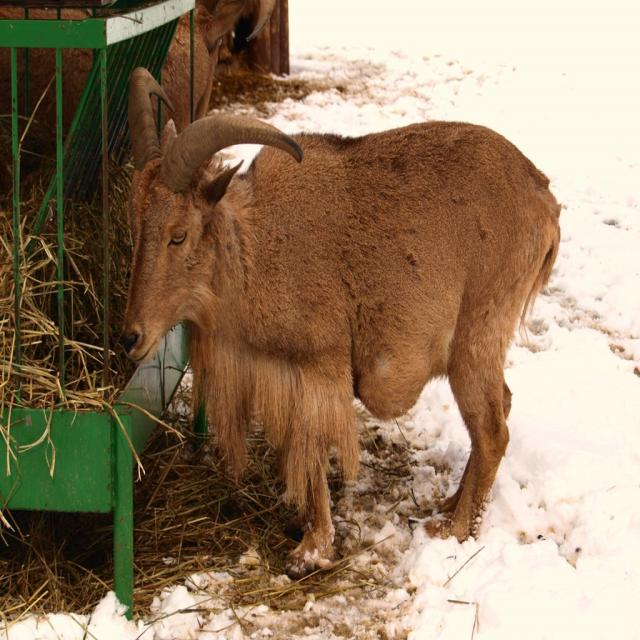Goat: (105, 96, 553, 578)
